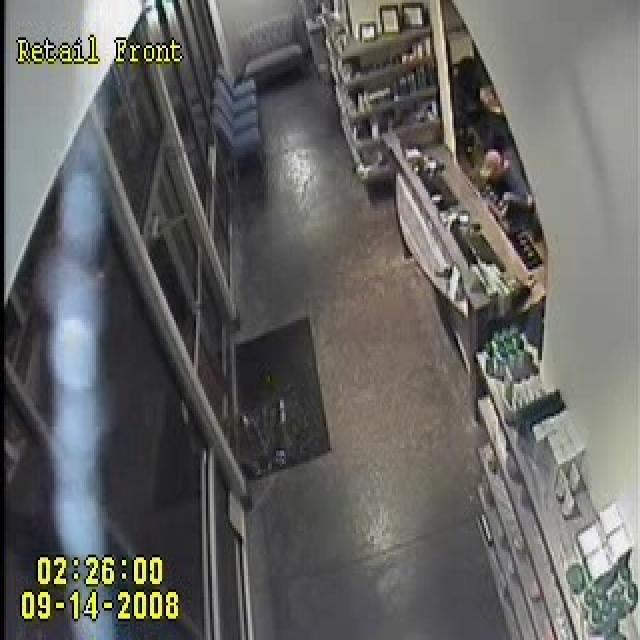thief: (470, 125, 542, 244)
